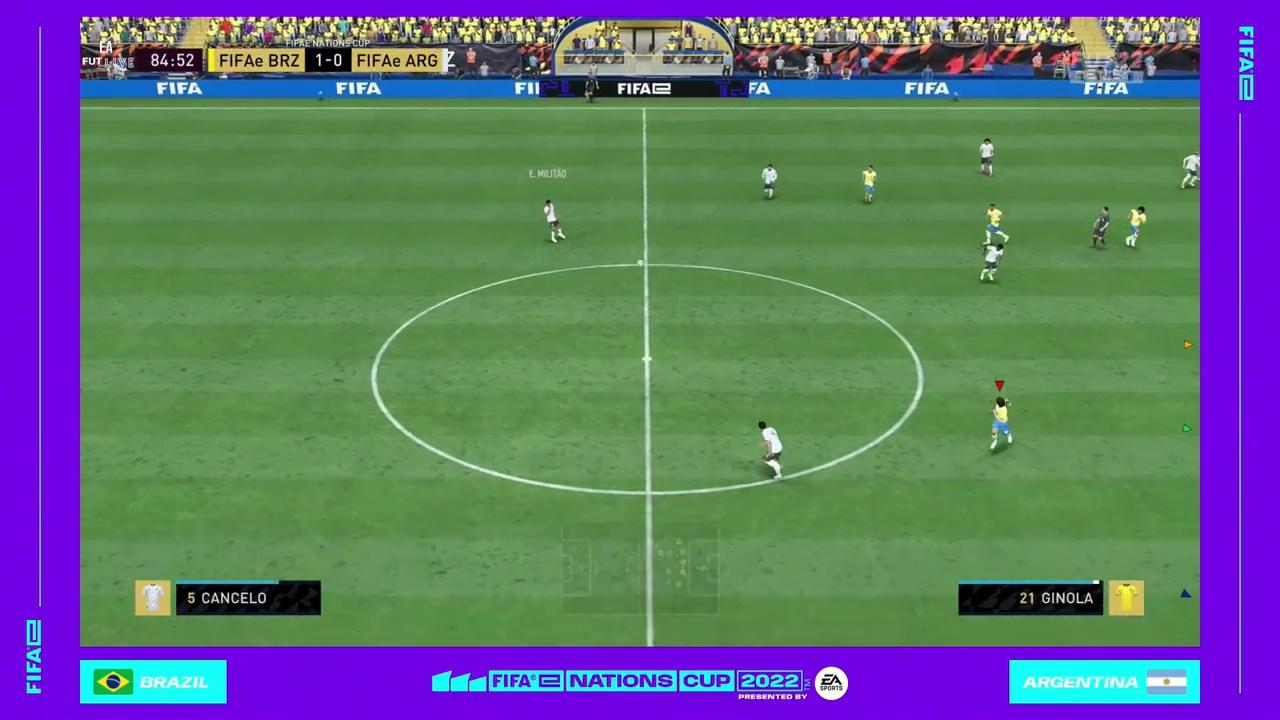scoreboard: (204, 45, 449, 74)
timestamp: (130, 45, 205, 71)
